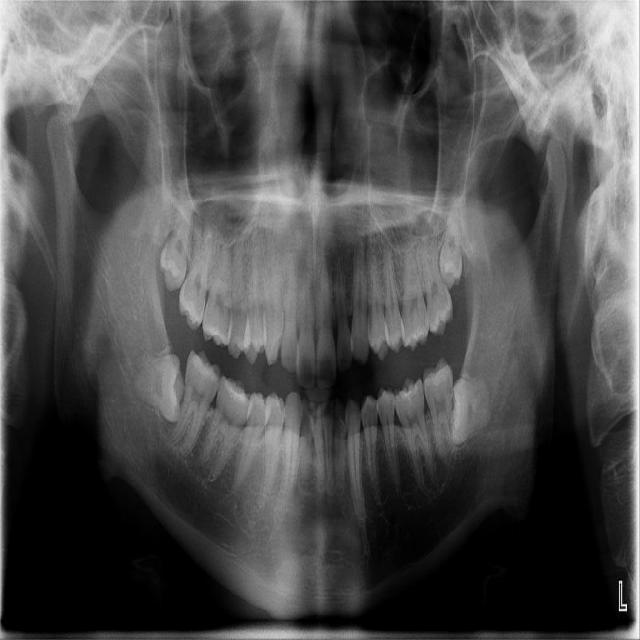Filling: (405, 321, 429, 348), (181, 296, 201, 328), (398, 379, 425, 400), (431, 303, 448, 335), (227, 382, 247, 407), (191, 357, 216, 376)
impacted tooth: (129, 356, 181, 422), (158, 184, 189, 286), (451, 377, 494, 443), (439, 189, 461, 287)
